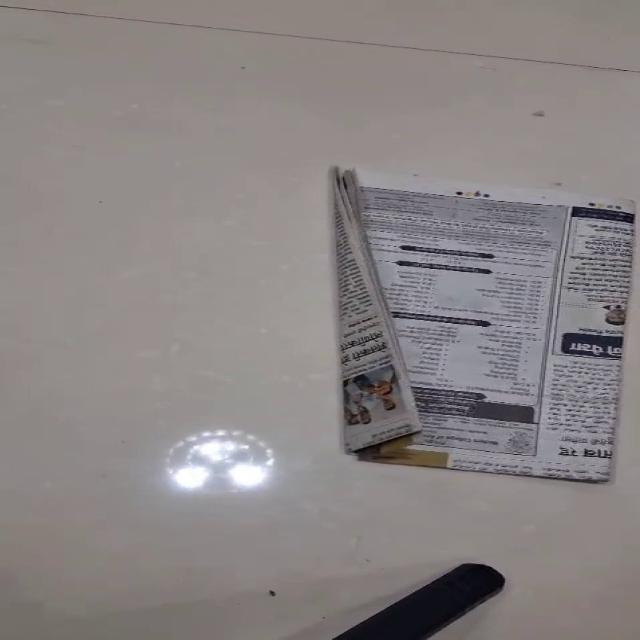paper: (331, 165, 636, 482)
